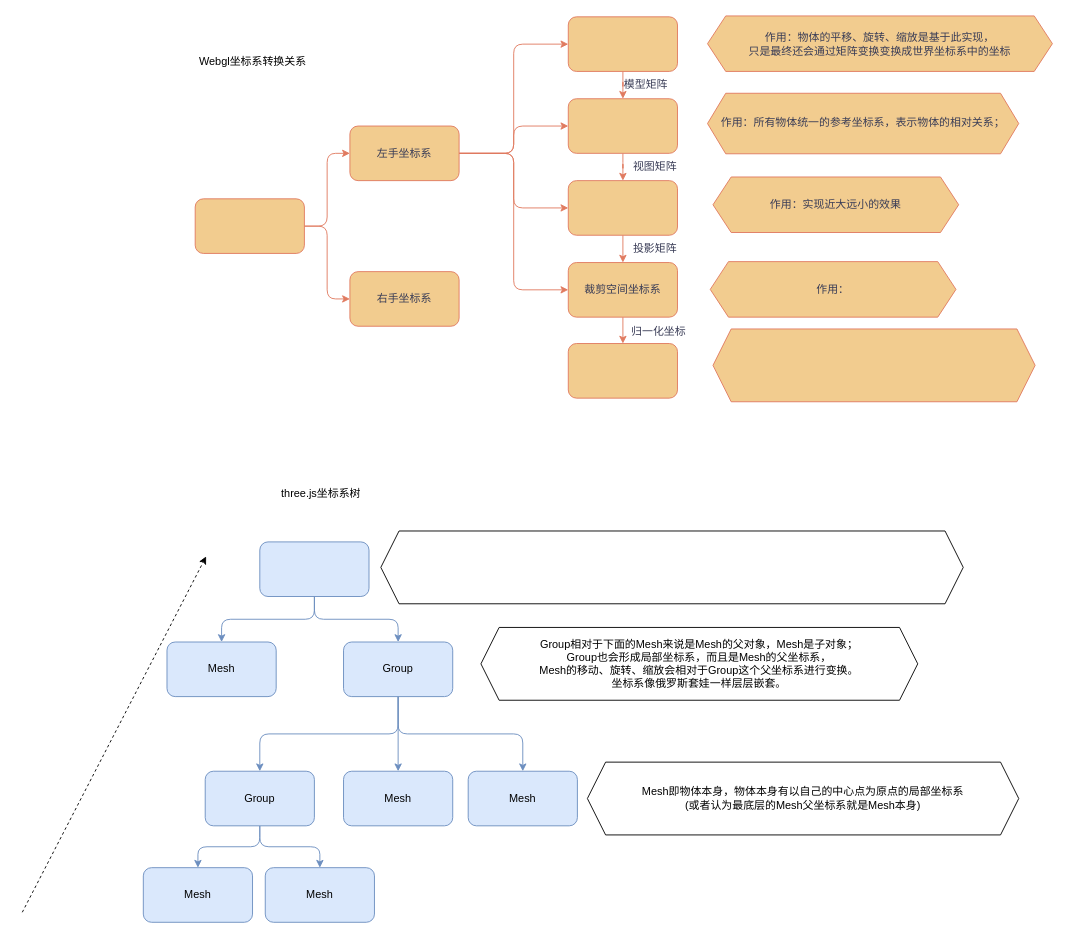
The diagram is 1068 pixels wide and 938 high, and some of its shapes have lost their labels. The shapes that lost their labels are listed below. From the top down, each one's centre as x and y in pixels, then its label:
[622,43]: 局部坐标系
[622,125]: 世界坐标系
[249,225]: 坐标系种类
[622,207]: 相机坐标系
[622,370]: 屏幕坐标系
[873,365]: canvas坐标系，左上角为原点，X轴向右为正方向，Y轴向下为正方向 https://juejin.cn/post/7002975543406788644
[314,569]: Scene
[671,567]: 顶级父对象，称为世界坐标系；如果一个Mesh直接添加进Scene中
